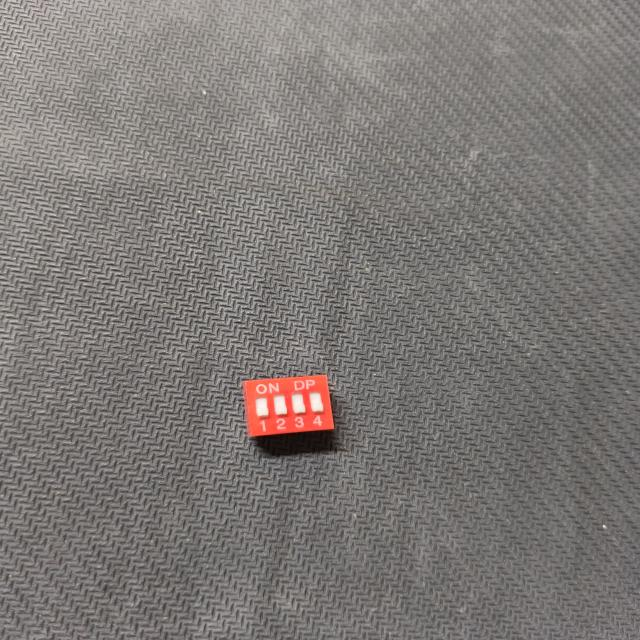switch: (233, 369, 344, 455)
